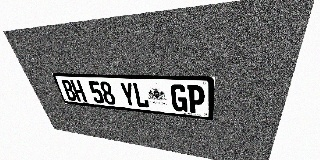5: (88, 81, 105, 104)
8: (99, 81, 116, 105)
B: (60, 80, 78, 101)
G: (170, 84, 188, 112)
H: (70, 80, 87, 102)
L: (132, 83, 150, 108)
P: (187, 85, 205, 114)
Y: (119, 82, 137, 107)
